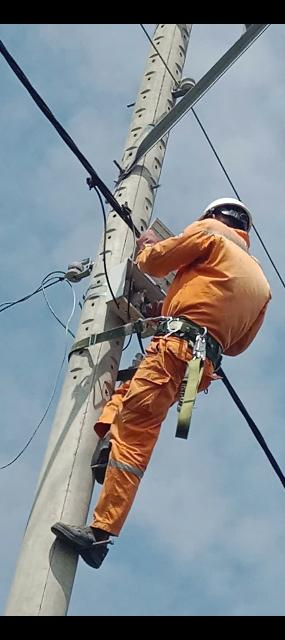gloves: (129, 211, 166, 253)
harness: (145, 298, 241, 378)
helmet: (204, 184, 266, 250)
shoes: (54, 506, 122, 568), (76, 433, 125, 486)
